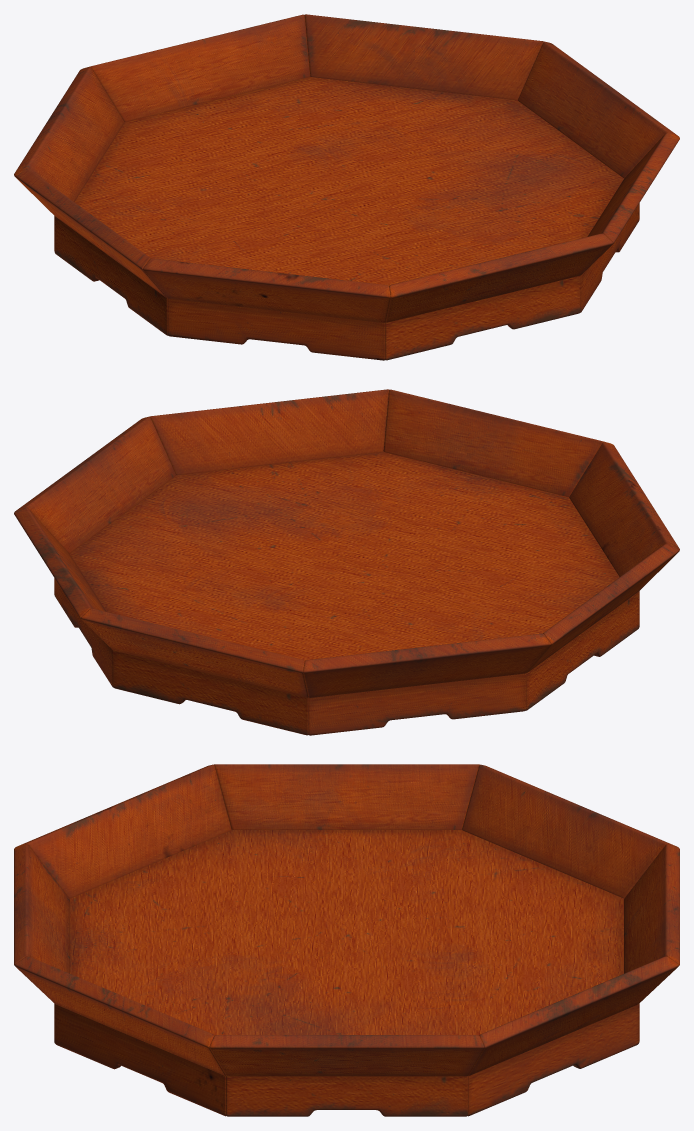
File: SM_WoodenTray336.fbx
3 renders of one model, top to bottom at view 1: azimuth 30°, elevation 25°; view 2: azimuth 150°, elevation 25°; view 3: azimuth 270°, elevation 25°, orthographic. The views are drawn at different scales.
Visible parts, largest first — view 1: SM_WoodenTray336; view 2: SM_WoodenTray336; view 3: SM_WoodenTray336.
Part boxes in pixels (box(x1,y1,x2,y2)): SM_WoodenTray336: box(14, 14, 679, 360); SM_WoodenTray336: box(14, 389, 679, 735); SM_WoodenTray336: box(14, 764, 679, 1116).
Bounding box in the file's own units: 56.03 × 8.73 × 56.03.
Materials: 1 (1 with a texture image).
